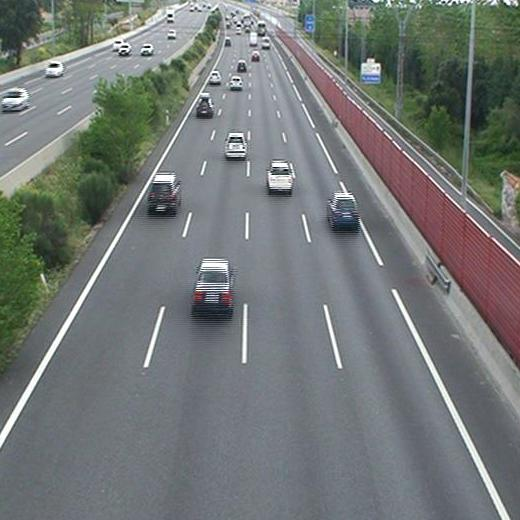car: (194, 259, 232, 311), (149, 174, 180, 213), (329, 195, 358, 224), (266, 163, 292, 190), (225, 133, 247, 157), (195, 96, 212, 116), (230, 76, 244, 88), (208, 72, 221, 82), (237, 61, 247, 71), (250, 51, 259, 61)
van: (261, 38, 270, 48)
